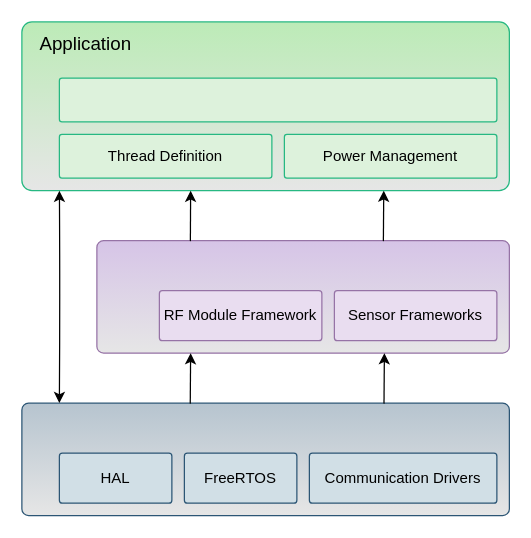
Some shapes in this 531 by 538 pixel diagram are drawn without their labels. The box of each missing label's shape, as (x1, y1, x2, y2) in pixels:
Communication Management: (58, 77, 497, 122)
Middleware: (96, 239, 509, 353)
RTOS & BSP: (21, 402, 509, 516)
